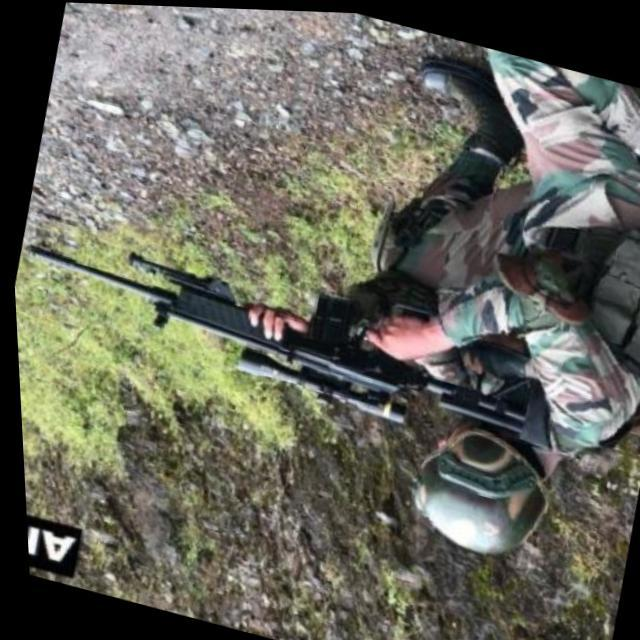weapon: (9, 215, 573, 463)
